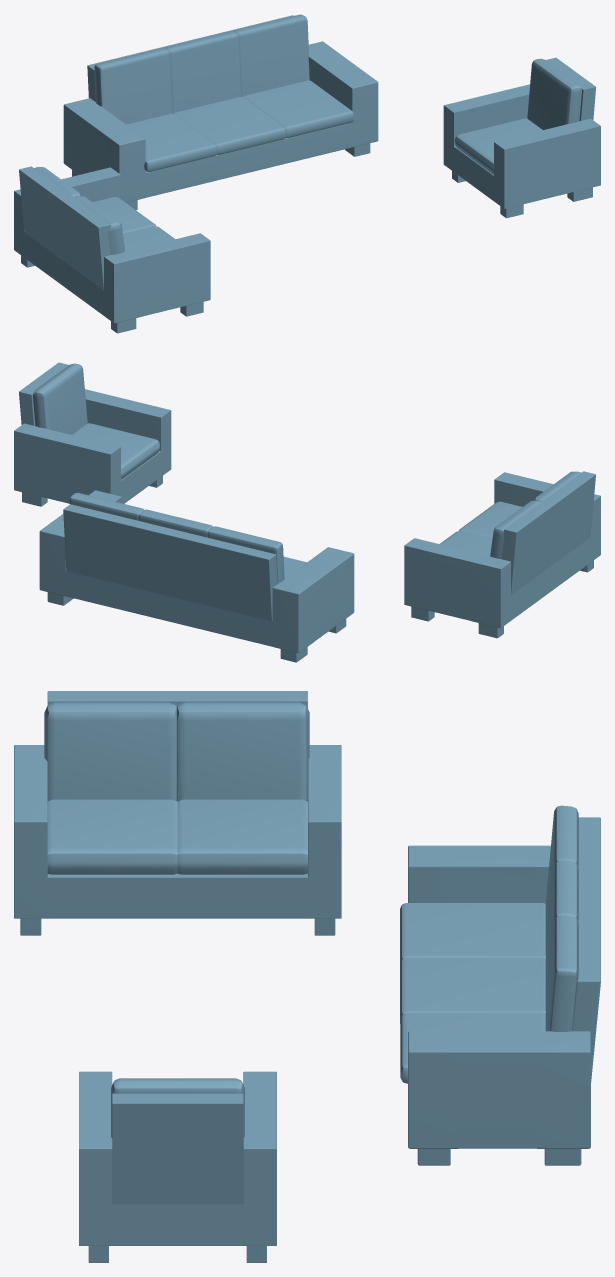
3 views of the same model, one above another, from view 1: azimuth 30°, elevation 25°; view 2: azimuth 150°, elevation 25°; view 3: azimuth 270°, elevation 25° (orthographic). The views are drawn at different scales.
Parts seen in each view (by area): view 1: three_seat_sofa, two_seat_sofa, one_seat_couch; view 2: three_seat_sofa, two_seat_sofa, one_seat_couch; view 3: two_seat_sofa, three_seat_sofa, one_seat_couch.
Part boxes in pixels (box(x1,y1,x2,y2)): three_seat_sofa: box(63, 14, 378, 209); two_seat_sofa: box(14, 166, 210, 333); one_seat_couch: box(443, 57, 600, 218); three_seat_sofa: box(39, 490, 354, 662); two_seat_sofa: box(404, 471, 600, 638); one_seat_couch: box(14, 362, 171, 506); two_seat_sofa: box(14, 691, 341, 935); three_seat_sofa: box(400, 805, 600, 1165); one_seat_couch: box(79, 1071, 276, 1262).
Bounding box in the file's own units: 0.212 × 0.0432 × 0.1274.
